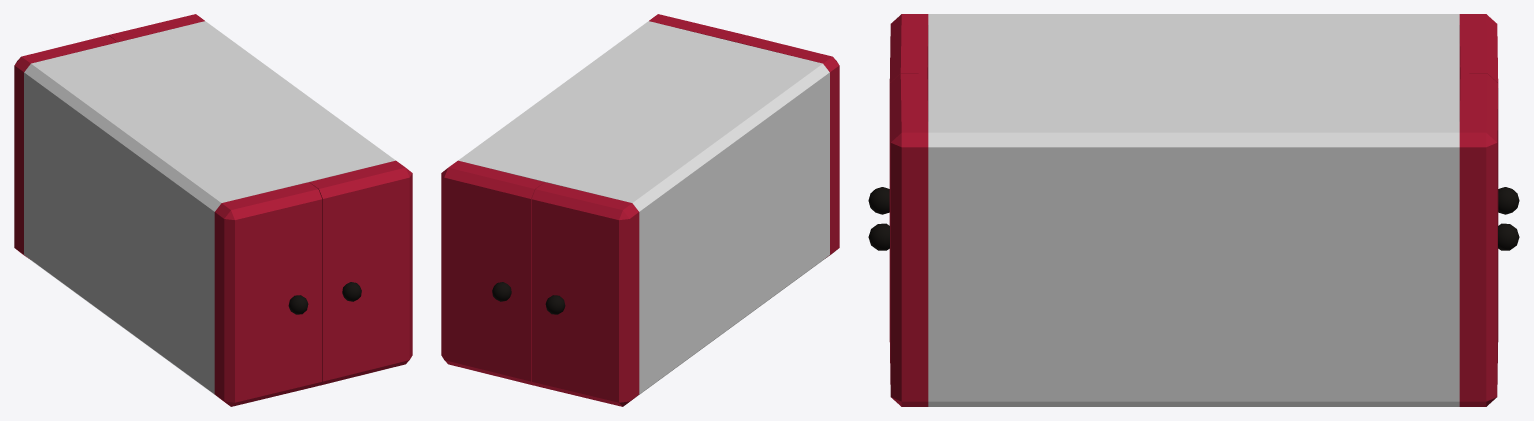
The model's file is LehaPrimerBox.fbx.
3 renders of one model, left to right at view 1: azimuth 30°, elevation 25°; view 2: azimuth 150°, elevation 25°; view 3: azimuth 270°, elevation 25°, orthographic. The views are drawn at different scales.
Parts seen in each view (by area): view 1: Box, DoorR, DoorL, DoorR.001, DoorL.002; view 2: Box, DoorR.001, DoorL.002, DoorR, DoorL; view 3: Box, DoorL, DoorL.002, DoorR, DoorR.001.
Part boxes in pixels (<box>): Box: <box>24,21,395,397</box>; DoorR: <box>214,182,322,406</box>; DoorL: <box>309,160,412,385</box>; DoorR.001: <box>14,35,117,258</box>; DoorL.002: <box>108,14,204,42</box>; Box: <box>458,21,829,397</box>; DoorR.001: <box>531,182,639,406</box>; DoorL.002: <box>441,160,544,385</box>; DoorR: <box>736,35,839,258</box>; DoorL: <box>649,14,745,42</box>; Box: <box>928,14,1459,406</box>; DoorL: <box>868,73,928,406</box>; DoorL.002: <box>1459,73,1519,406</box>; DoorR: <box>868,14,928,214</box>; DoorR.001: <box>1459,14,1519,214</box>.
Bounding box in the file's own units: 51.5 × 51.44 × 111.
